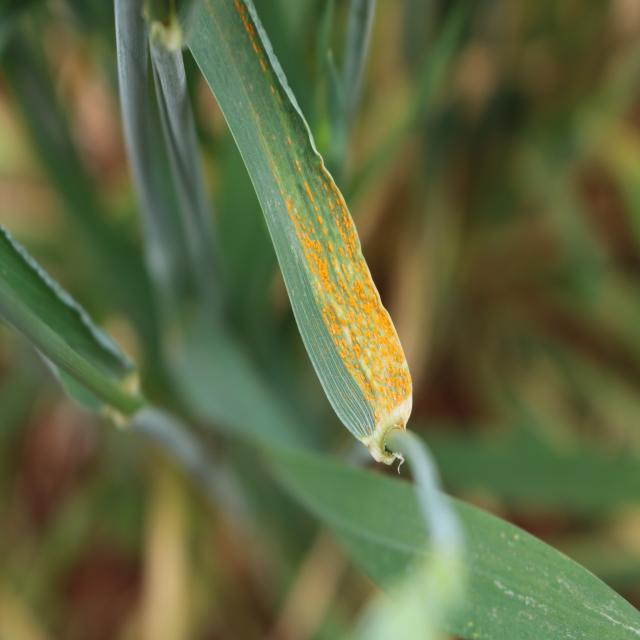Stripe Rust: (282, 160, 415, 452)
